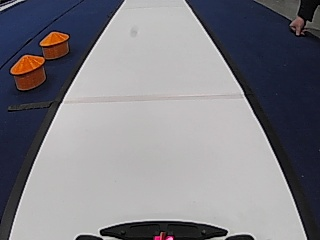granary: (9, 52, 45, 90), (38, 29, 69, 58)
